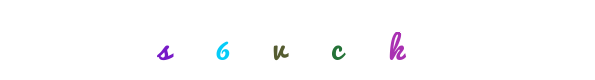6: (257, 0, 337, 80)
C: (275, 0, 355, 80)
K: (283, 0, 363, 80)
S: (182, 0, 262, 80)
V: (266, 0, 346, 80)
